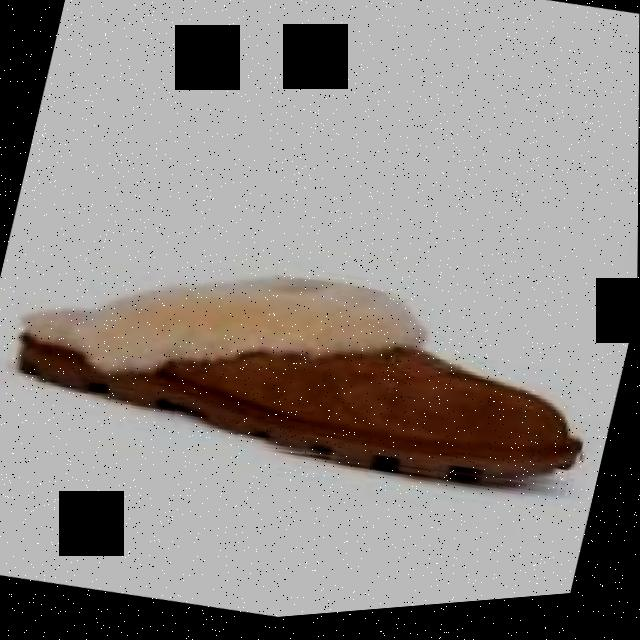shoe: (19, 283, 583, 485)
